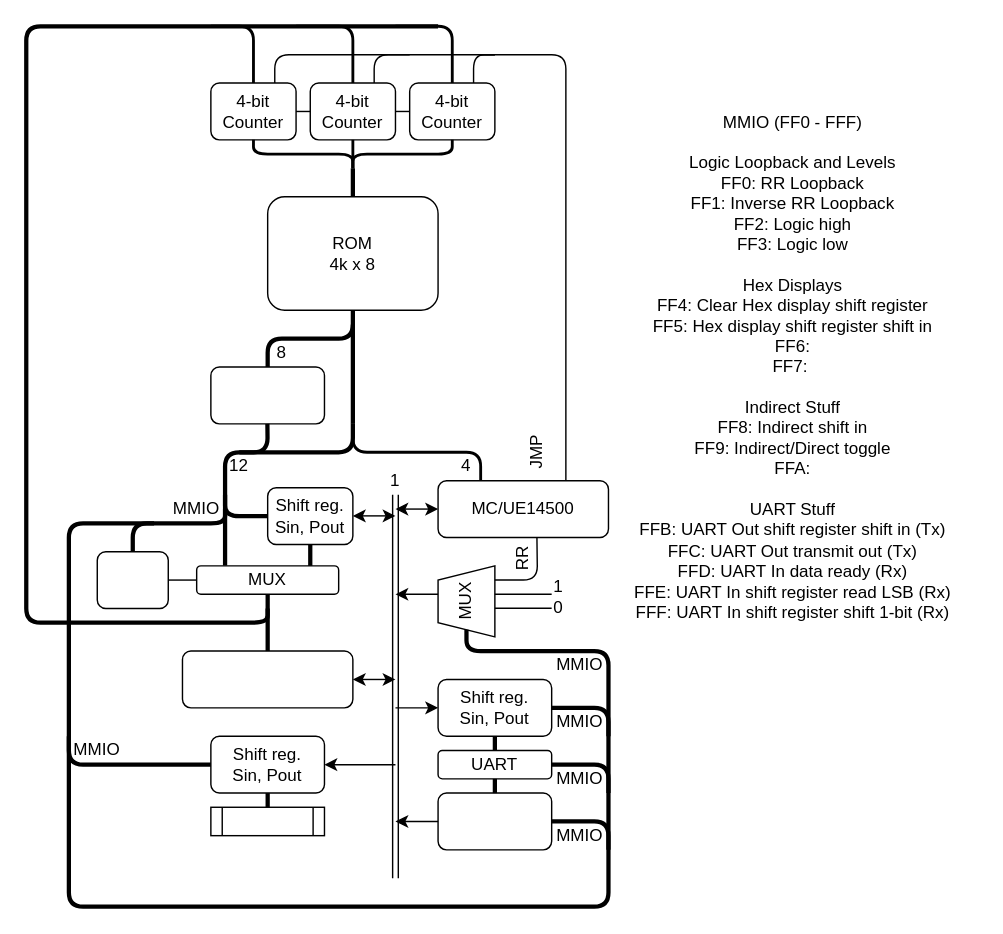
The diagram is 1003 pixels wide and 934 high, and some of its shapes have lost their labels. The shapes that lost their labels are listed below. From the top down, each one's centre as x and y in pixels, then its label:
At pixel 266 395: "8-bit latch".
At pixel 132 579: "Toggle Flip Flop".
At pixel 267 679: "4k x 1 SRAM".
At pixel 266 821: "Hex Disp.".
At pixel 494 821: "Shift reg. Pin, Sout".
